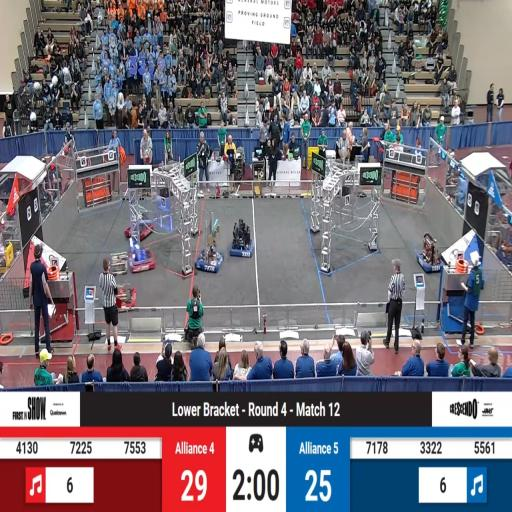robot: (416, 234, 444, 274), (127, 200, 154, 240), (197, 236, 225, 274), (130, 236, 157, 274), (228, 218, 254, 256), (112, 283, 136, 311)
